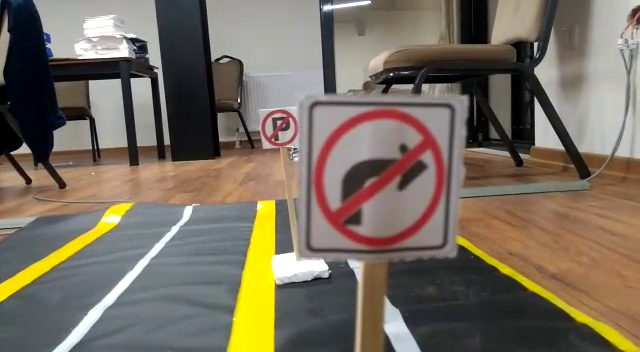park_yapilmaz: (262, 108, 299, 148)
saga_donulmez: (312, 99, 454, 252)
